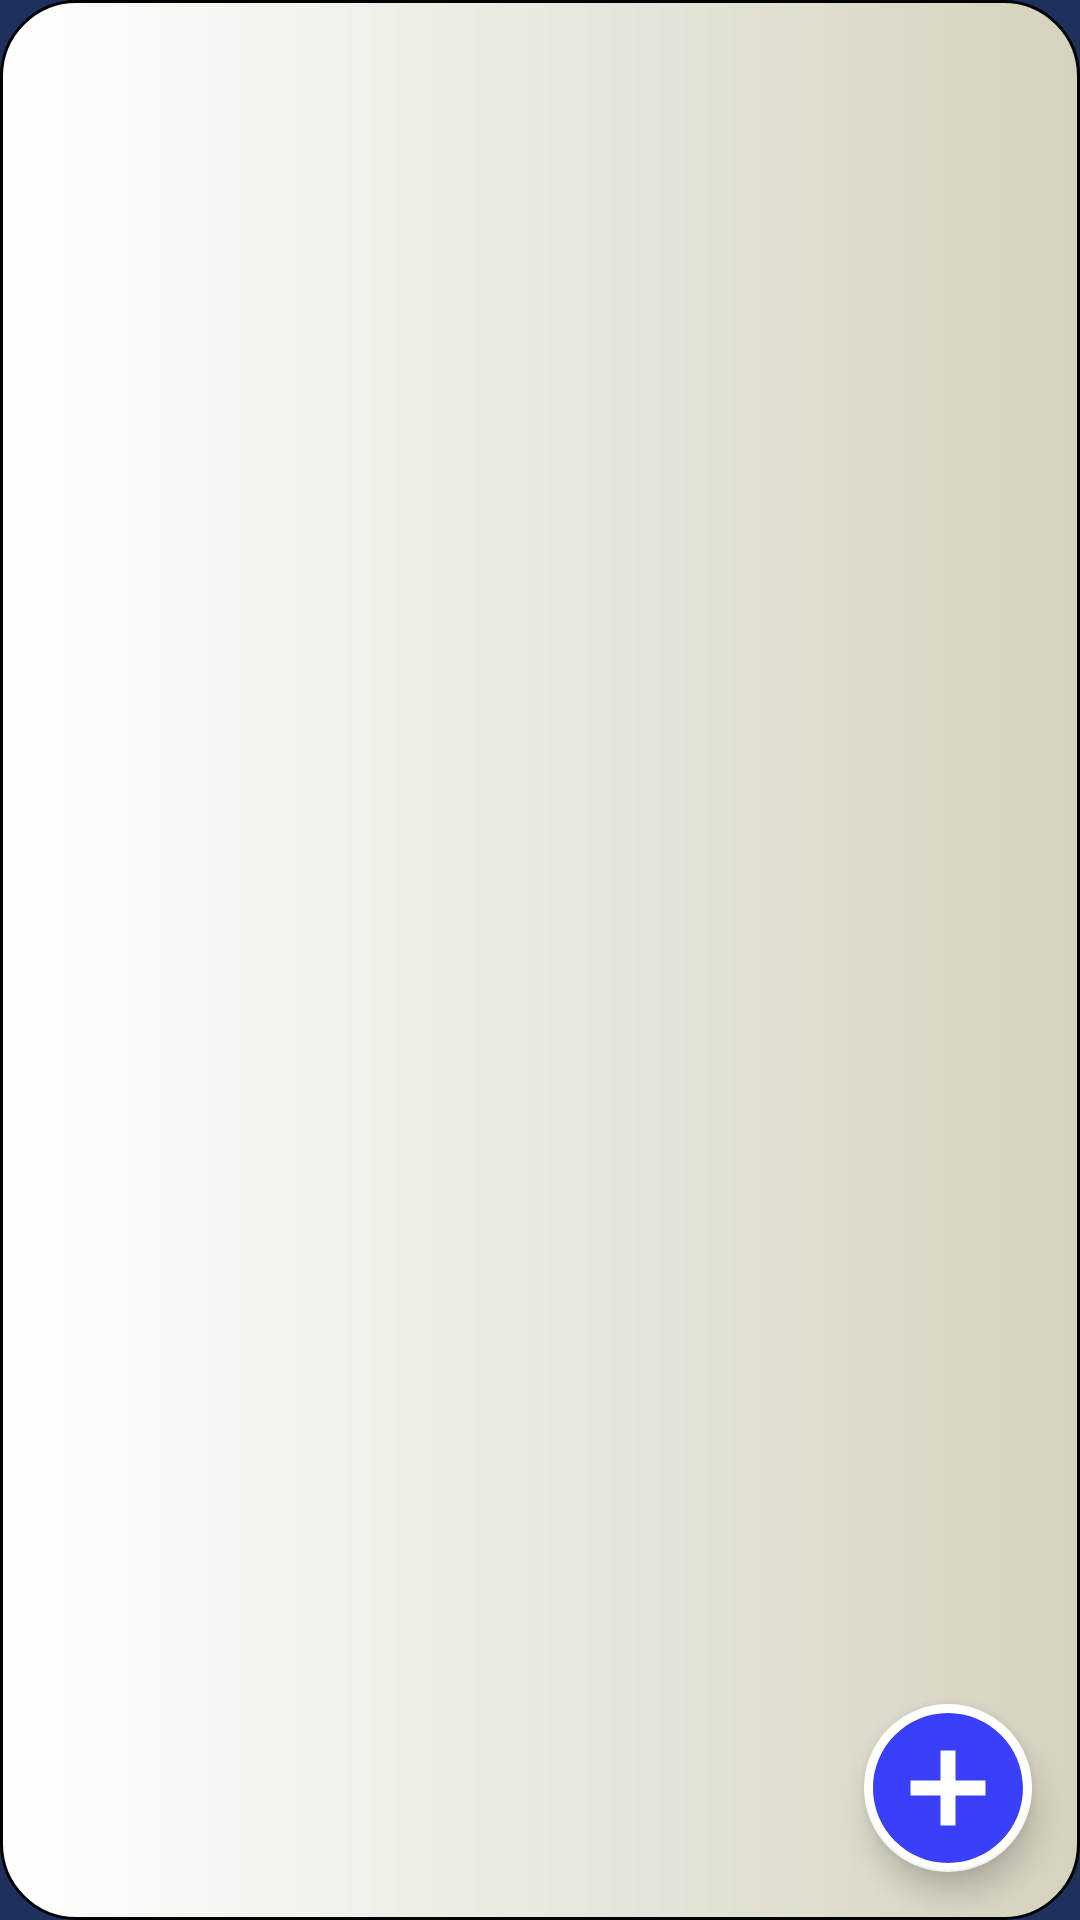

Where to tap for icons on this 1080 × 1920 app screen, as (x=x, y=y):
add circle: (x=948, y=1788)
